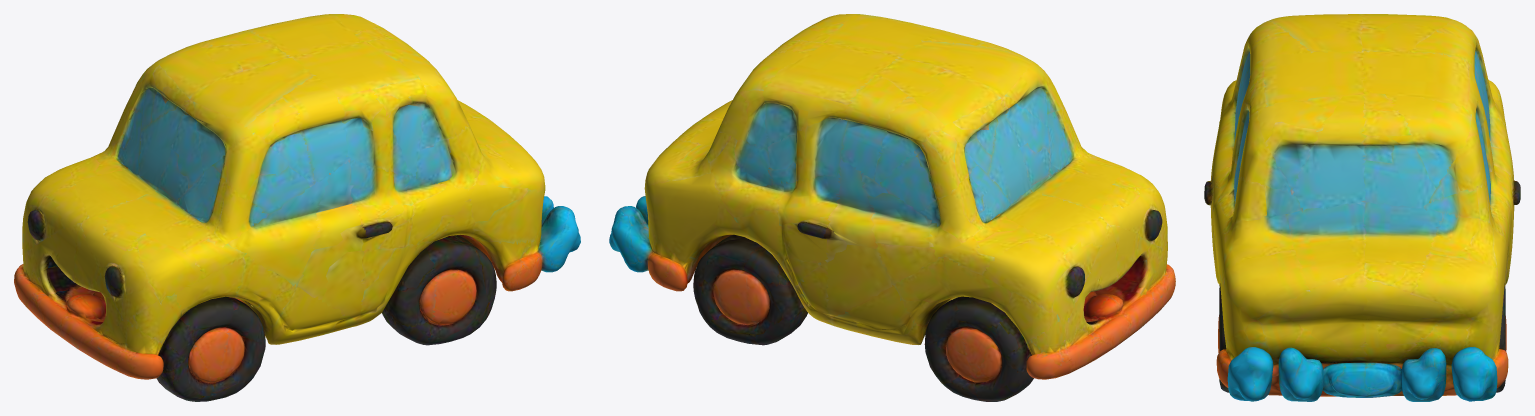
3 views of the same model, side by side, from view 1: azimuth 30°, elevation 25°; view 2: azimuth 150°, elevation 25°; view 3: azimuth 270°, elevation 25° (orthographic). The views are drawn at different scales.
Bounding box in the file's own units: 1.9 × 1.03 × 1.03.
1 material, 1 textured.
